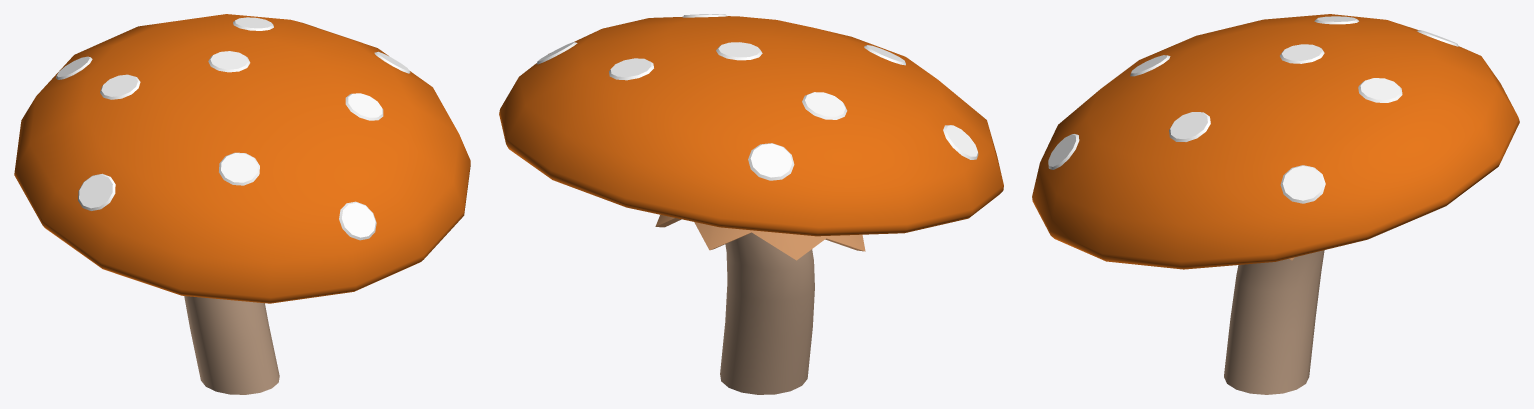
File: Mashroom_02_1.fbx
3 renders of one model, left to right at view 1: azimuth 30°, elevation 25°; view 2: azimuth 150°, elevation 25°; view 3: azimuth 270°, elevation 25°, orthographic. The views are drawn at different scales.
Visible parts, largest first — view 1: Mashroom_02_1; view 2: Mashroom_02_1; view 3: Mashroom_02_1.
Boxes of the visible parts, x1,y1,x2,y2 form: Mashroom_02_1: (14,14,470,394); Mashroom_02_1: (499,14,1003,394); Mashroom_02_1: (1032,14,1519,394).
Size of the model in its own units: 141 by 104 by 139.
